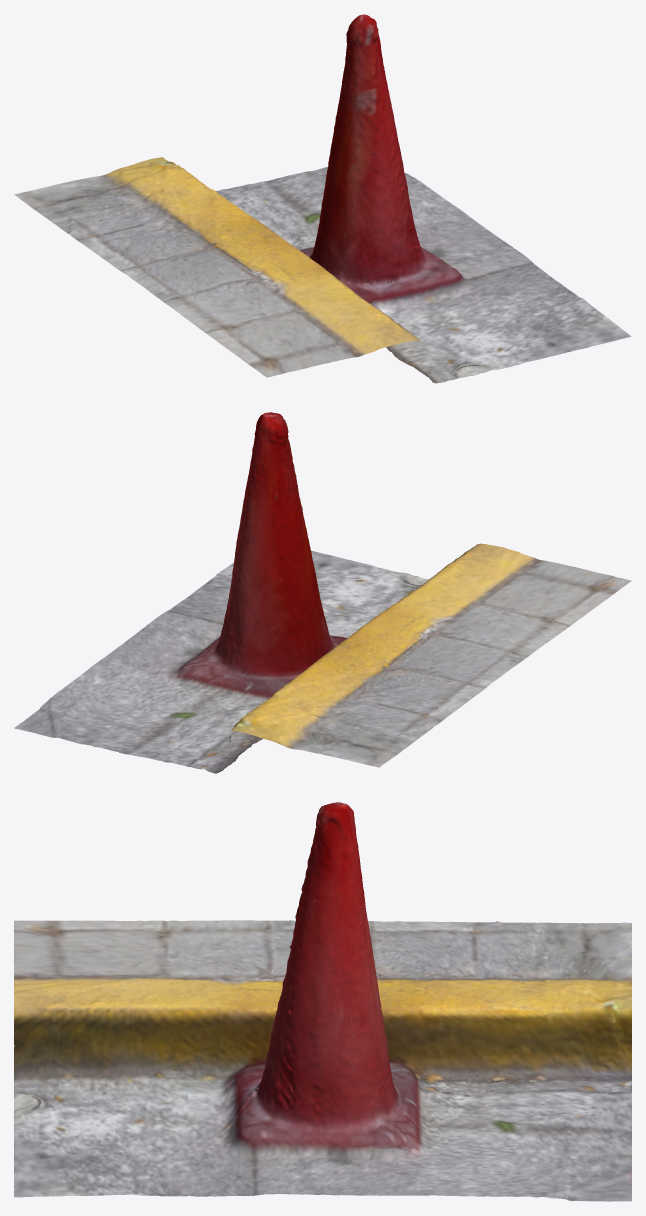
File: TrafficCone.glb
3 views of the same model, one above another, from view 1: azimuth 30°, elevation 25°; view 2: azimuth 150°, elevation 25°; view 3: azimuth 270°, elevation 25° (orthographic). The views are drawn at different scales.
Parts seen in each view (by area): view 1: Object_4; view 2: Object_4; view 3: Object_4.
Boxes of the visible parts, bbox=[...] form: Object_4: bbox=[14, 14, 631, 383]; Object_4: bbox=[14, 412, 631, 773]; Object_4: bbox=[14, 802, 631, 1201].
Bounding box in the file's own units: 1 × 0.6825 × 1.2.
1 material, 1 textured.
